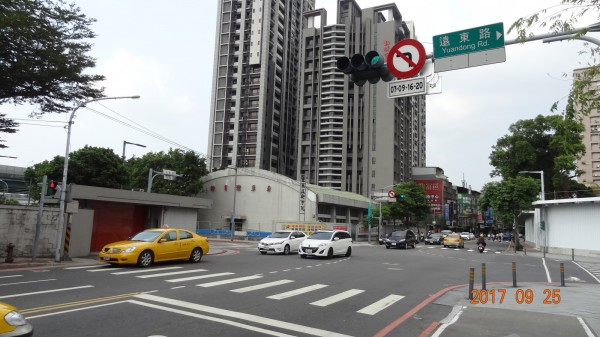No_left_turn: (387, 39, 426, 78)
Traffic_light_green: (336, 50, 382, 72)
